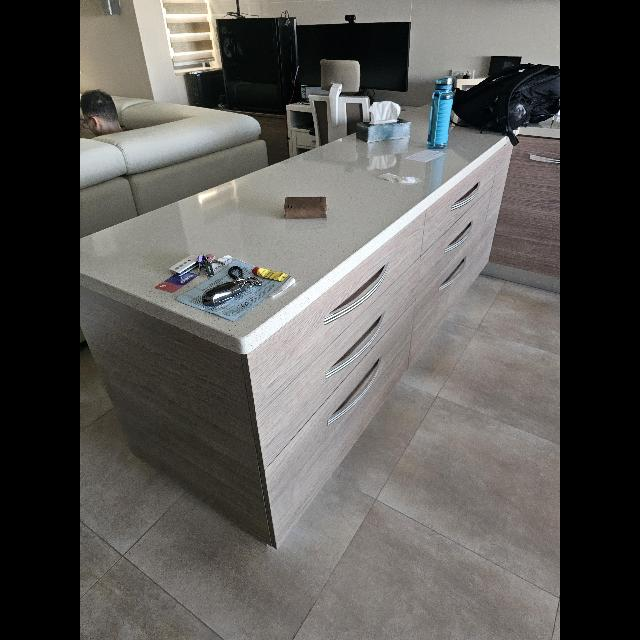Keys: (169, 252, 225, 276)
Wallet: (283, 197, 325, 220)
